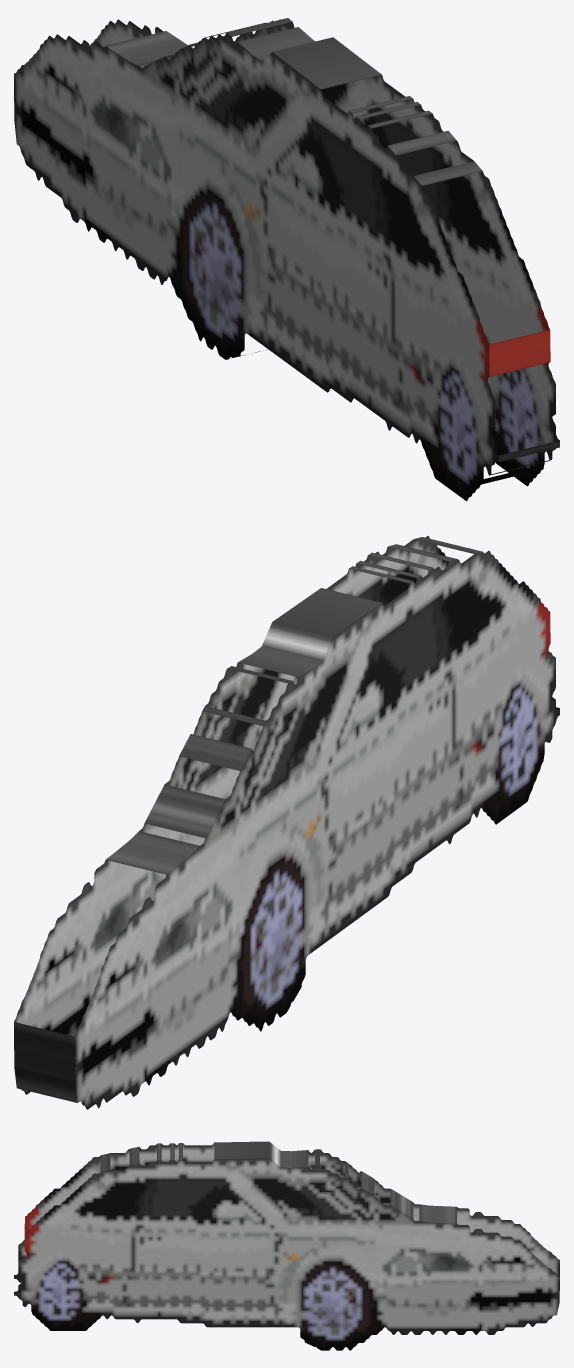
Rendered from Car Test 1.fbx.
3 renders of one model, top to bottom at view 1: azimuth 30°, elevation 25°; view 2: azimuth 150°, elevation 25°; view 3: azimuth 270°, elevation 25°, orthographic. The views are drawn at different scales.
Parts seen in each view (by area): view 1: car; view 2: car; view 3: car.
Boxes of the visible parts, box(x1,y1,x2,y2) form: car: box(14, 18, 559, 500); car: box(14, 536, 559, 1109); car: box(14, 1141, 559, 1350).
Bounding box in the file's own units: 72 × 392 × 993.
